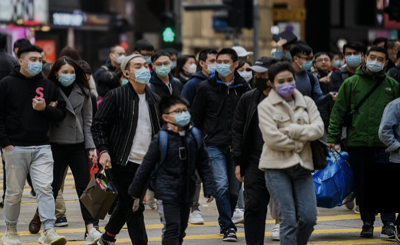with_mask: (275, 75, 297, 99), (132, 62, 152, 85), (252, 71, 271, 93), (173, 106, 192, 127), (25, 54, 43, 76), (366, 53, 385, 73), (58, 67, 76, 88), (216, 59, 233, 78), (299, 55, 316, 73), (345, 50, 362, 67), (154, 61, 172, 77), (238, 66, 254, 84), (282, 44, 294, 61), (205, 58, 217, 74), (115, 51, 127, 65), (186, 60, 198, 74), (143, 52, 154, 63), (332, 57, 341, 68), (170, 55, 177, 69)
without_mask: (316, 57, 332, 71)
